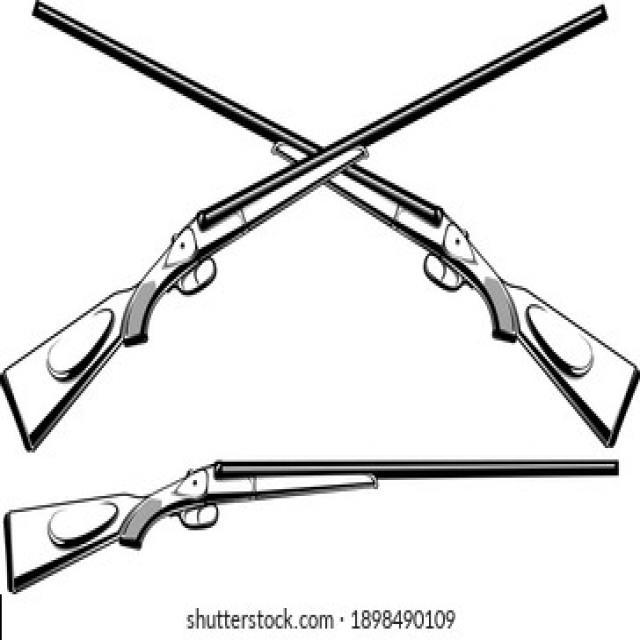shotgun: (1, 3, 628, 468), (19, 1, 634, 460), (5, 454, 620, 596)
